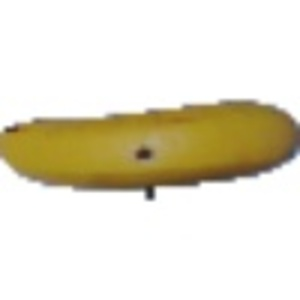banana: (2, 102, 296, 189)
